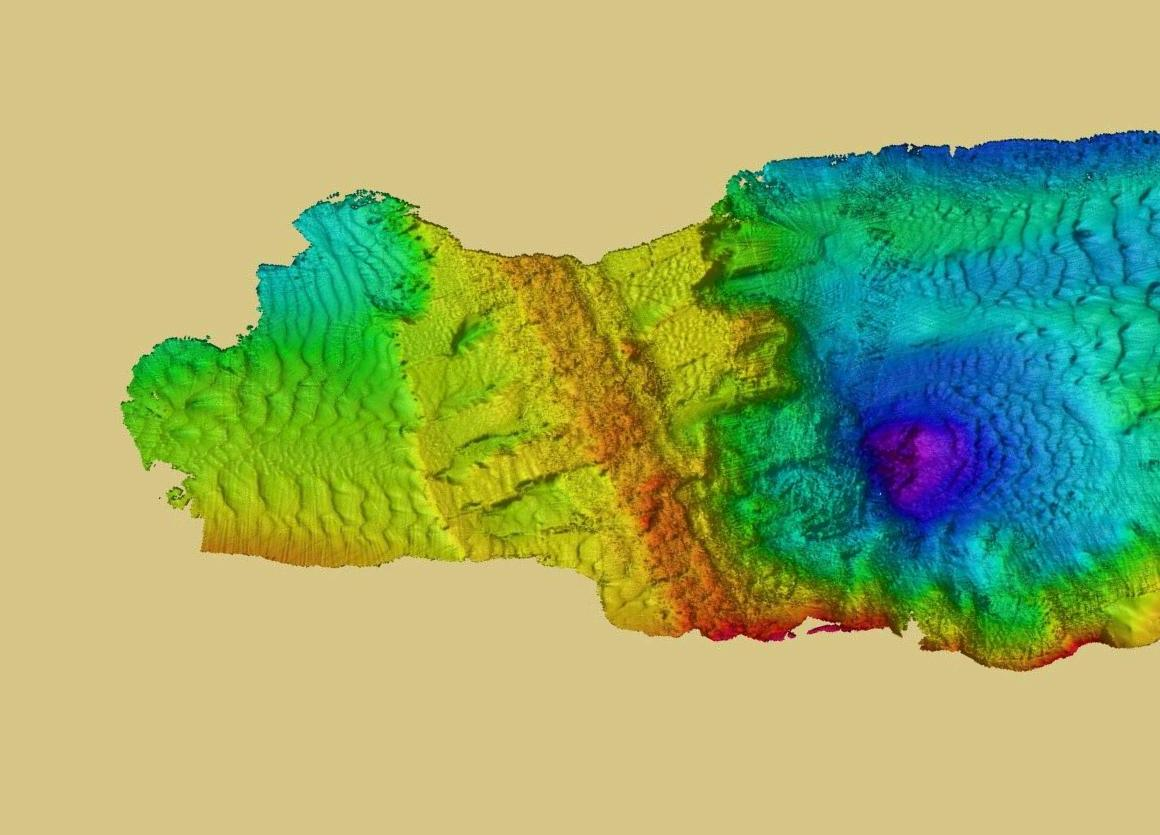Dune: (113, 190, 402, 642), (903, 196, 1159, 362)
Scarp: (683, 558, 1160, 778)
Scour pit: (808, 368, 994, 537)
Submerged dike: (502, 240, 745, 652)
